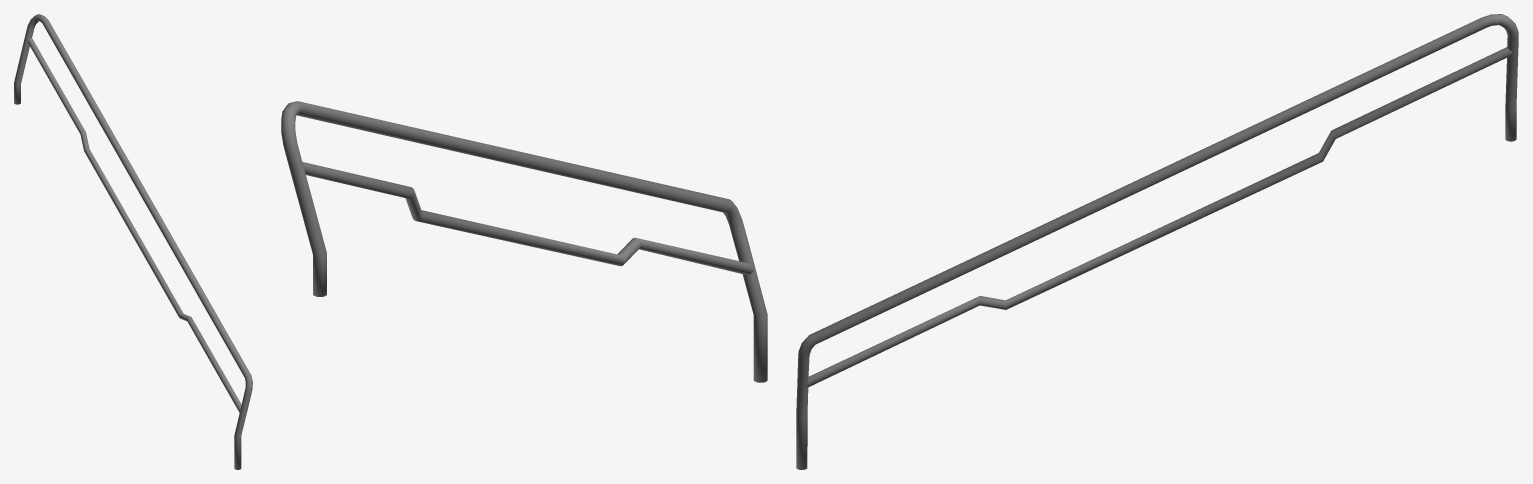
Rendered from q-scifi-mod-prop-rail-incline-long-r.glb.
3 renders of one model, left to right at view 1: azimuth 30°, elevation 25°; view 2: azimuth 150°, elevation 25°; view 3: azimuth 270°, elevation 25°, orthographic. The views are drawn at different scales.
Visible parts, largest first — view 1: Prop_Rail_Incline_Long_R; view 2: Prop_Rail_Incline_Long_R; view 3: Prop_Rail_Incline_Long_R.
Part boxes in pixels (bbox=[...]): Prop_Rail_Incline_Long_R: bbox=[14, 14, 252, 469]; Prop_Rail_Incline_Long_R: bbox=[281, 101, 767, 382]; Prop_Rail_Incline_Long_R: bbox=[796, 14, 1518, 469].
Size of the model in its own units: 0.2545 by 2.72 by 3.8.
1 material, 1 textured.
